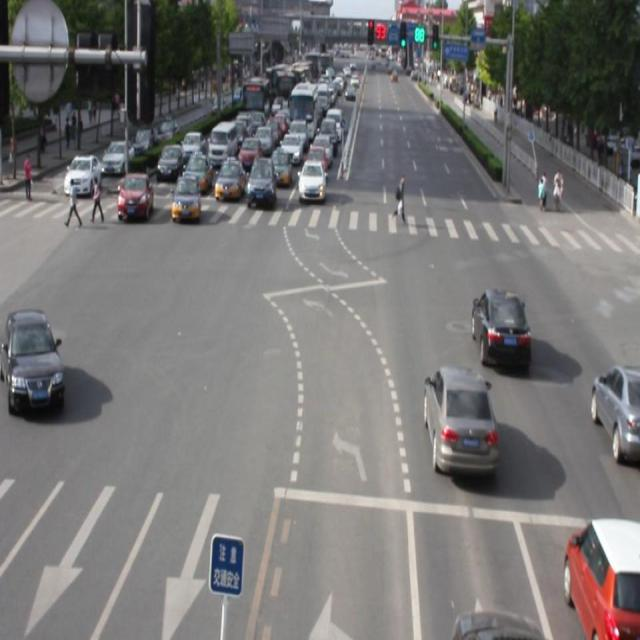car: (562, 515, 640, 640), (424, 362, 496, 478), (0, 308, 64, 415), (590, 365, 640, 462), (472, 289, 530, 372), (450, 605, 542, 640), (172, 174, 201, 224)
